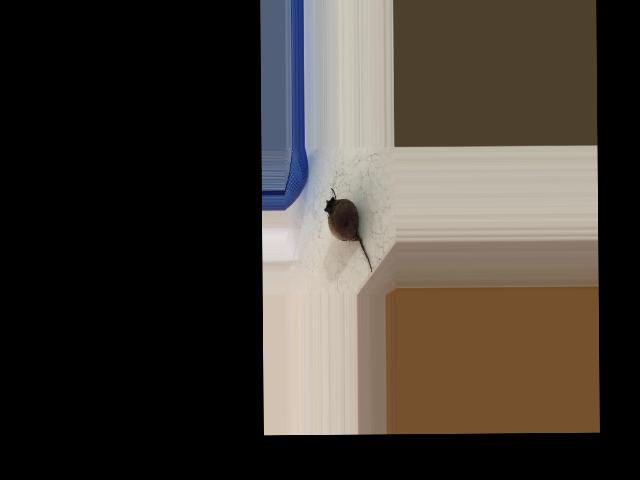beet: (324, 188, 372, 272)
